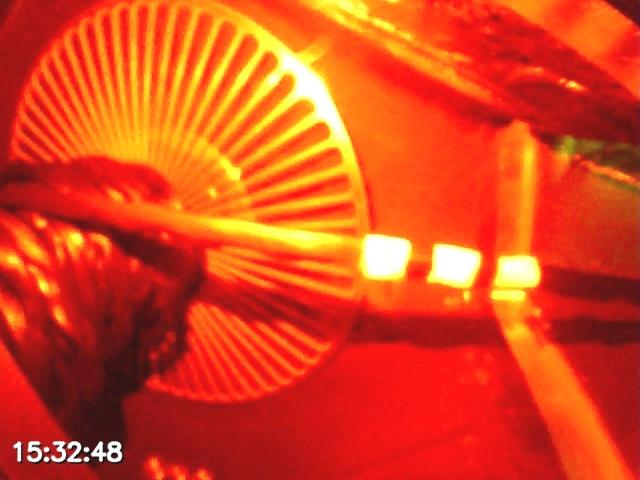white-dots: (360, 234, 541, 291)
